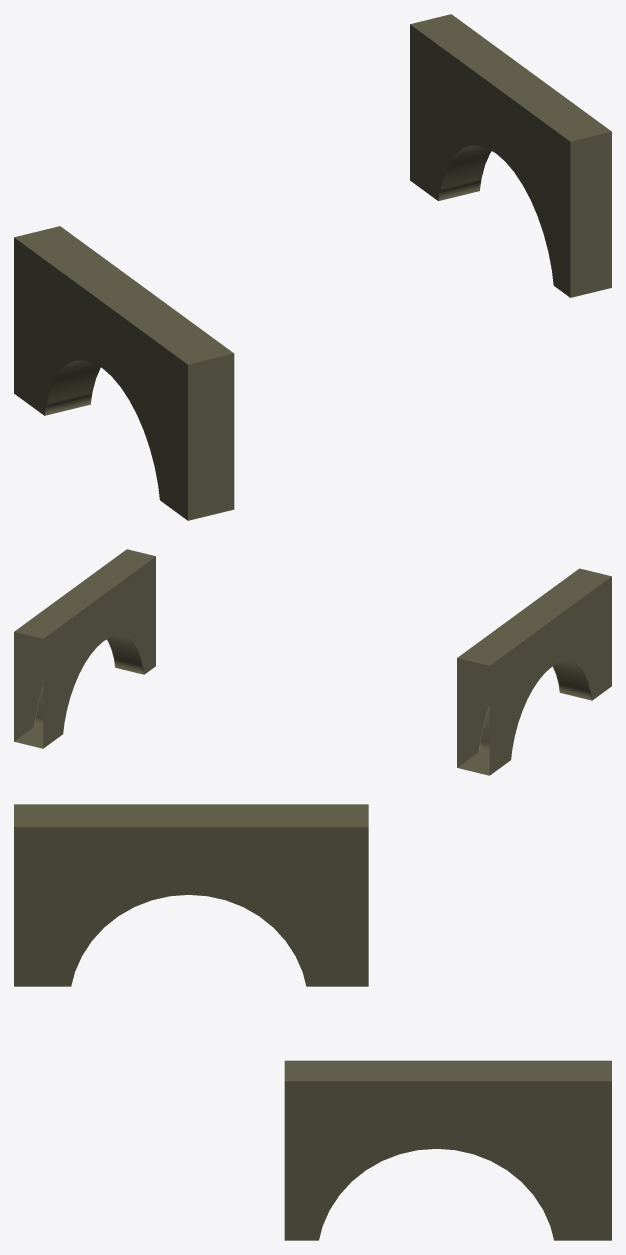
File: more archs.fbx
3 renders of one model, top to bottom at view 1: azimuth 30°, elevation 25°; view 2: azimuth 150°, elevation 25°; view 3: azimuth 270°, elevation 25°, orthographic. The views are drawn at different scales.
Parts seen in each view (by area): view 1: Cube.013; view 2: Cube.013; view 3: Cube.013.
Part boxes in pixels (box(x1,y1,x2,y2)): Cube.013: box(14, 14, 611, 520); Cube.013: box(14, 549, 611, 775); Cube.013: box(14, 804, 611, 1240).
Bounding box in the file's own units: 5540 × 1485 × 5056.
